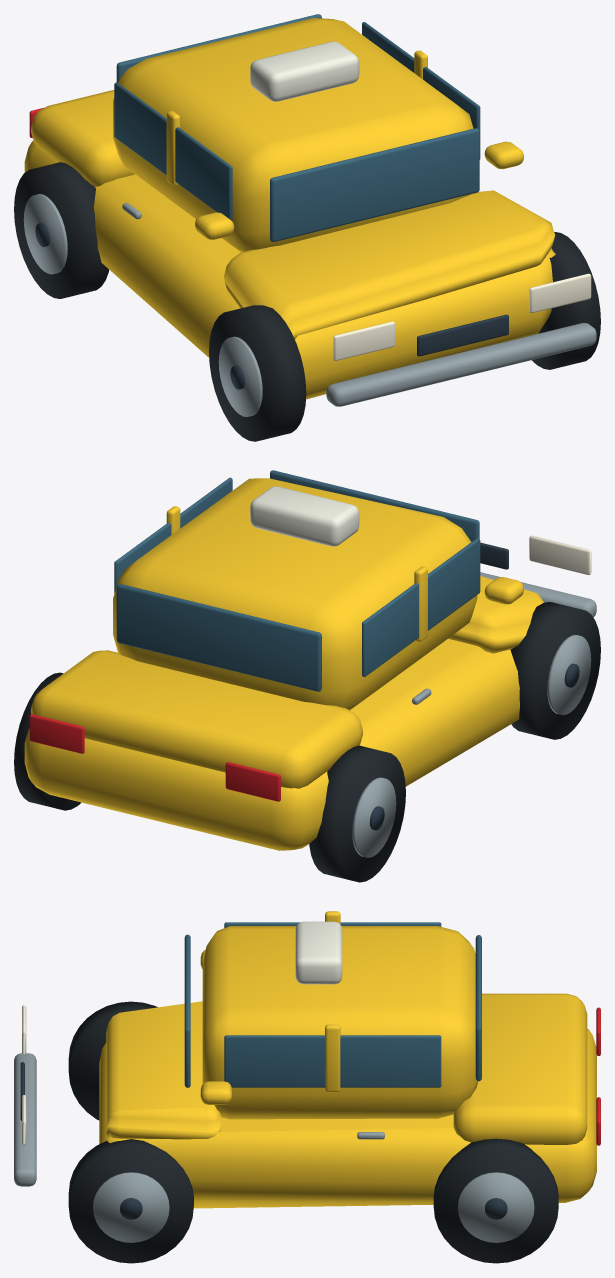
File: taxi.glb
3 views of the same model, one above another, from view 1: azimuth 30°, elevation 25°; view 2: azimuth 150°, elevation 25°; view 3: azimuth 270°, elevation 25° (orthographic). The views are drawn at different scales.
Parts seen in each view (by area): view 1: Body, Windshield, Tire, Tire.001, FrontBumper, SideGlass, TaxiSign, Tire.002, Alloy.001, Alloy, Grille, SideGlass.001 (+6 smaller); view 2: Body, RearGlass, Tire.001, Tire, SideGlass, TaxiSign, Alloy.001, Alloy, Tire.003, Windshield, SideGlass.001, Headlamp (+6 smaller); view 3: Body, SideGlass.001, Tire.002, Tire.003, Alloy.002, Alloy.003, Tire, TaxiSign, FrontBumper, Pillar.001, Windshield, RearGlass (+2 smaller).
Part boxes in pixels (x1=…): Body: x1=24, y1=18, x2=555, y2=399; Windshield: x1=270, y1=128, x2=479, y2=241; Tire: x1=209, y1=305, x2=306, y2=441; Tire.001: x1=14, y1=162, x2=108, y2=298; FrontBumper: x1=326, y1=323, x2=596, y2=406; SideGlass: x1=114, y1=82, x2=232, y2=220; TaxiSign: x1=250, y1=41, x2=359, y2=101; Tire.002: x1=532, y1=232, x2=600, y2=369; Alloy.001: x1=23, y1=194, x2=67, y2=274; Alloy: x1=218, y1=336, x2=262, y2=416; Grille: x1=417, y1=314, x2=508, y2=356; SideGlass.001: x1=362, y1=22, x2=480, y2=159; Body: x1=24, y1=478, x2=543, y2=850; RearGlass: x1=116, y1=584, x2=321, y2=691; Tire.001: x1=309, y1=745, x2=405, y2=882; Tire: x1=510, y1=602, x2=600, y2=739; SideGlass: x1=362, y1=538, x2=480, y2=676; TaxiSign: x1=250, y1=486, x2=359, y2=546; Alloy.001: x1=352, y1=777, x2=396, y2=857; Alloy: x1=547, y1=634, x2=591, y2=715; Tire.003: x1=14, y1=672, x2=81, y2=810; Windshield: x1=270, y1=470, x2=479, y2=541; SideGlass.001: x1=114, y1=477, x2=232, y2=593; Headlamp: x1=529, y1=535, x2=591, y2=574; Body: x1=99, y1=926, x2=596, y2=1208; SideGlass.001: x1=224, y1=1035, x2=441, y2=1087; Tire.002: x1=68, y1=1139, x2=193, y2=1263; Tire.003: x1=433, y1=1138, x2=558, y2=1263; Alloy.002: x1=93, y1=1172, x2=169, y2=1242; Alloy.003: x1=458, y1=1172, x2=534, y2=1242; Tire: x1=68, y1=1001, x2=157, y2=1120; TaxiSign: x1=295, y1=921, x2=342, y2=984; FrontBumper: x1=14, y1=1053, x2=36, y2=1186; Pillar.001: x1=325, y1=1024, x2=340, y2=1092; Windshield: x1=184, y1=934, x2=190, y2=1087; RearGlass: x1=475, y1=935, x2=481, y2=1081.
Bounding box in the file's own units: 2.1 × 1.59 × 3.38.
